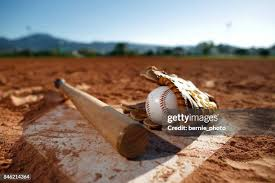baseball bat: (54, 79, 148, 162)
